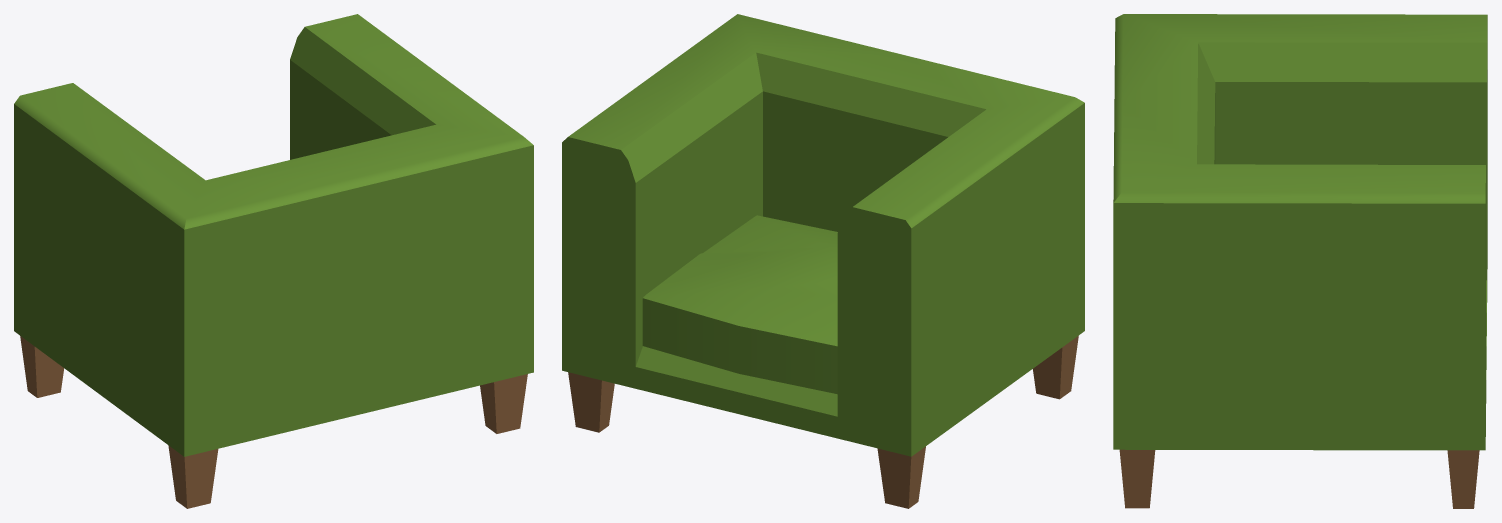
The model's file is SM_Sofa.fbx.
The picture shows the model from 3 angles, left to right: view 1: azimuth 30°, elevation 25°; view 2: azimuth 150°, elevation 25°; view 3: azimuth 270°, elevation 25°; orthographic projection. The views are drawn at different scales.
Visible parts, largest first — view 1: Chair; view 2: Chair; view 3: Chair.
Part boxes in pixels (bbox=[...]): Chair: bbox=[14, 14, 533, 508]; Chair: bbox=[562, 14, 1084, 508]; Chair: bbox=[1113, 14, 1487, 508].
Size of the model in its own units: 0.8809 by 0.7025 by 0.7511.
1 material, 1 textured.
